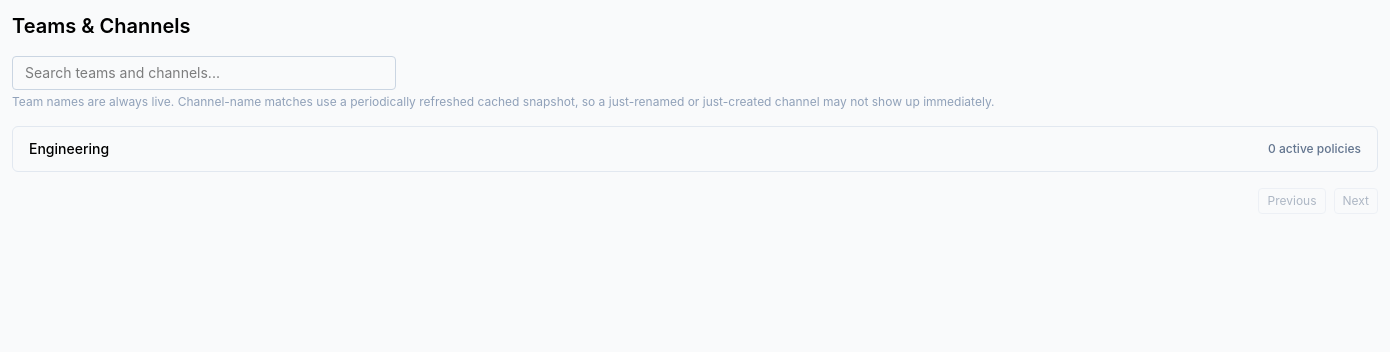
RetentionTeamsPage › shows Configure retention (not a permanent lockout) for a channel with a disabled policy
Step 1. Click the text "Engineering" → click(69, 149), box [29,139,109,159]
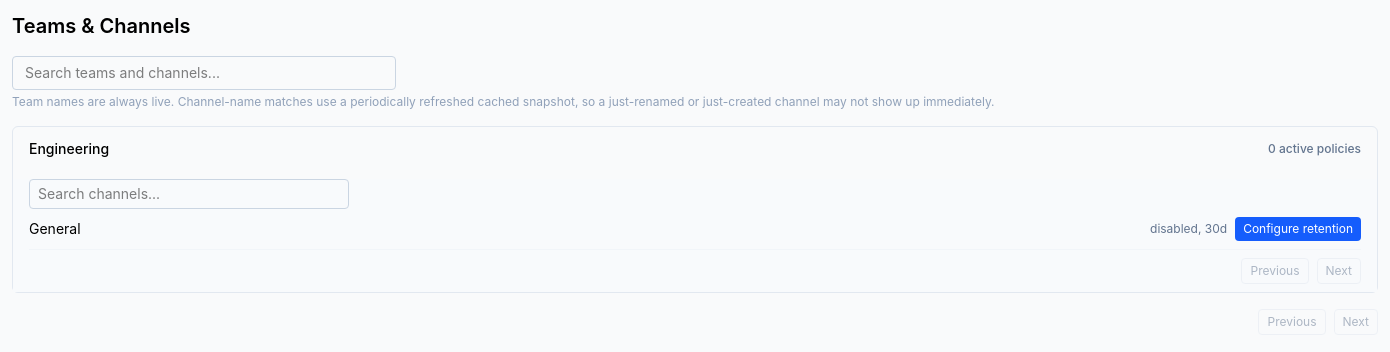
expect the text "disabled, 30d" is shown: met, box [1150,221,1227,237]
expect the button "Configure retention" is shown: met, box [1235,217,1361,241]
